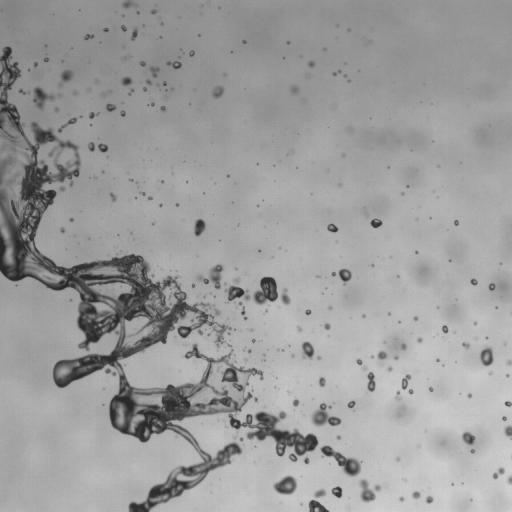droplet: (224, 276, 290, 319), (32, 86, 61, 111), (311, 403, 341, 426), (196, 264, 223, 289), (359, 479, 381, 502), (308, 488, 329, 511), (273, 475, 297, 494), (480, 346, 493, 366), (301, 341, 314, 359), (337, 268, 351, 284), (194, 219, 205, 236), (462, 432, 475, 445), (377, 350, 387, 365), (493, 467, 505, 479), (212, 86, 223, 98), (331, 486, 342, 498), (370, 218, 382, 228), (122, 0, 136, 8), (150, 66, 159, 77), (121, 77, 132, 86), (327, 223, 338, 232), (504, 425, 511, 439), (98, 143, 108, 152), (290, 85, 298, 93), (347, 400, 355, 408), (412, 491, 420, 499), (106, 104, 115, 111), (318, 377, 325, 386), (292, 398, 299, 406), (89, 112, 98, 118), (88, 142, 94, 151), (395, 391, 401, 400), (470, 278, 477, 285), (323, 323, 330, 330), (426, 496, 433, 503), (110, 193, 116, 201), (442, 325, 448, 333), (84, 34, 93, 39), (489, 283, 495, 290), (462, 342, 469, 348), (308, 61, 314, 67), (401, 343, 406, 350), (504, 401, 511, 406), (151, 9, 157, 14), (121, 25, 126, 31), (189, 50, 194, 56), (120, 110, 125, 116), (305, 309, 311, 314), (506, 359, 511, 365), (140, 61, 145, 66), (146, 79, 151, 84), (160, 106, 165, 111), (59, 186, 64, 191), (454, 220, 459, 225), (297, 326, 302, 331), (417, 337, 422, 342), (387, 366, 392, 371), (408, 389, 413, 394), (129, 88, 133, 94), (33, 62, 37, 67), (347, 127, 352, 131), (147, 196, 152, 200), (363, 210, 367, 215), (60, 227, 64, 232), (413, 316, 418, 320), (399, 497, 404, 501), (143, 87, 147, 91), (54, 107, 58, 111), (331, 272, 335, 276), (429, 387, 433, 391), (467, 393, 471, 397), (502, 416, 506, 420), (336, 435, 340, 439), (239, 437, 243, 441), (470, 449, 474, 453), (103, 28, 108, 31), (149, 102, 154, 105), (140, 192, 145, 195), (44, 58, 48, 61), (163, 81, 166, 85), (74, 91, 77, 95), (69, 218, 73, 221), (248, 328, 252, 331), (247, 349, 251, 352), (394, 356, 398, 359), (489, 371, 492, 375), (192, 284, 195, 287), (328, 306, 331, 309), (362, 314, 365, 317), (252, 339, 255, 342), (317, 356, 320, 359), (396, 457, 399, 460), (243, 40, 245, 43), (344, 74, 346, 77), (176, 203, 178, 206), (159, 204, 162, 206), (415, 251, 418, 253), (264, 310, 267, 312), (388, 312, 390, 315), (473, 322, 476, 324), (371, 355, 373, 358), (436, 359, 439, 361), (227, 175, 229, 177), (130, 179, 132, 181), (371, 264, 373, 266), (317, 275, 319, 277), (244, 359, 246, 361), (506, 374, 508, 376), (403, 479, 405, 481)
ligament: (0, 47, 318, 511), (320, 445, 361, 476), (58, 117, 77, 132), (58, 70, 73, 87), (367, 372, 375, 391), (401, 374, 411, 389), (356, 358, 367, 370), (167, 61, 181, 68), (131, 27, 137, 40), (18, 89, 28, 94), (507, 474, 511, 484), (333, 70, 340, 75)
